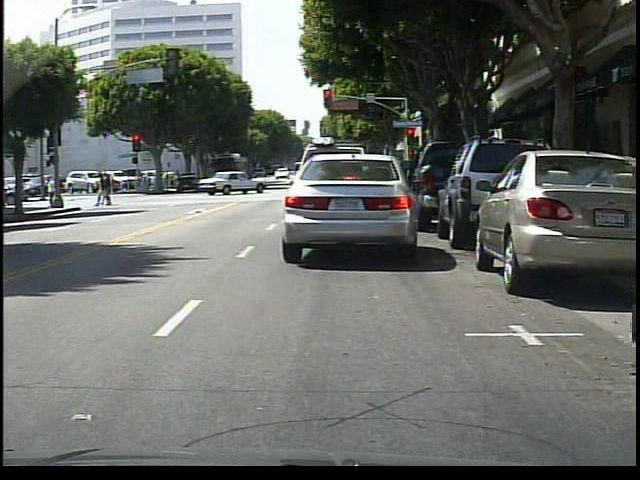person: (97, 174, 118, 208), (47, 174, 61, 208)
